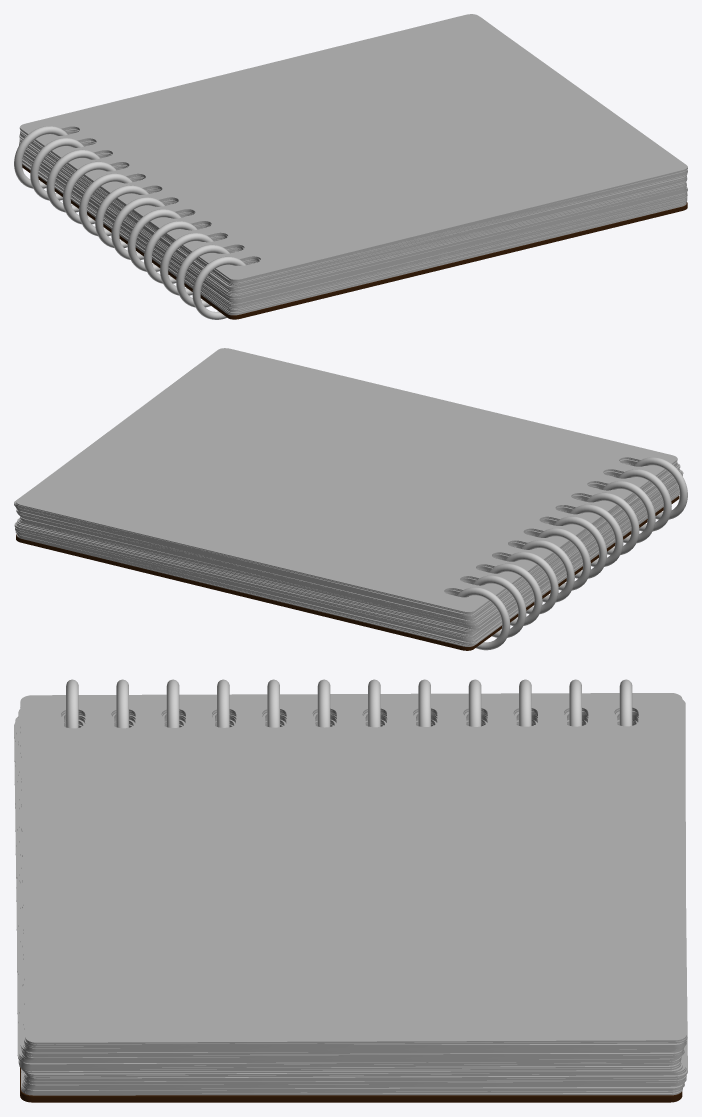
Rendered from Notebook.fbx.
3 views of the same model, one above another, from view 1: azimuth 30°, elevation 25°; view 2: azimuth 150°, elevation 25°; view 3: azimuth 270°, elevation 25° (orthographic). The views are drawn at different scales.
Parts seen in each view (by area): view 1: Plane_0, BezierCircle_2, Plane_001_1; view 2: Plane_0, BezierCircle_2, Plane_001_1; view 3: Plane_0, BezierCircle_2, Plane_001_1.
Part boxes in pixels (x1,y1,x2,y2): Plane_0: (19, 14, 687, 315); BezierCircle_2: (14, 126, 245, 319); Plane_001_1: (22, 164, 687, 319); Plane_0: (14, 348, 683, 646); BezierCircle_2: (457, 457, 687, 650); Plane_001_1: (16, 496, 679, 650); Plane_0: (14, 693, 687, 1095); BezierCircle_2: (66, 679, 632, 728); Plane_001_1: (20, 1067, 682, 1102).
Size of the model in its own units: 261 by 31.62 by 204.
